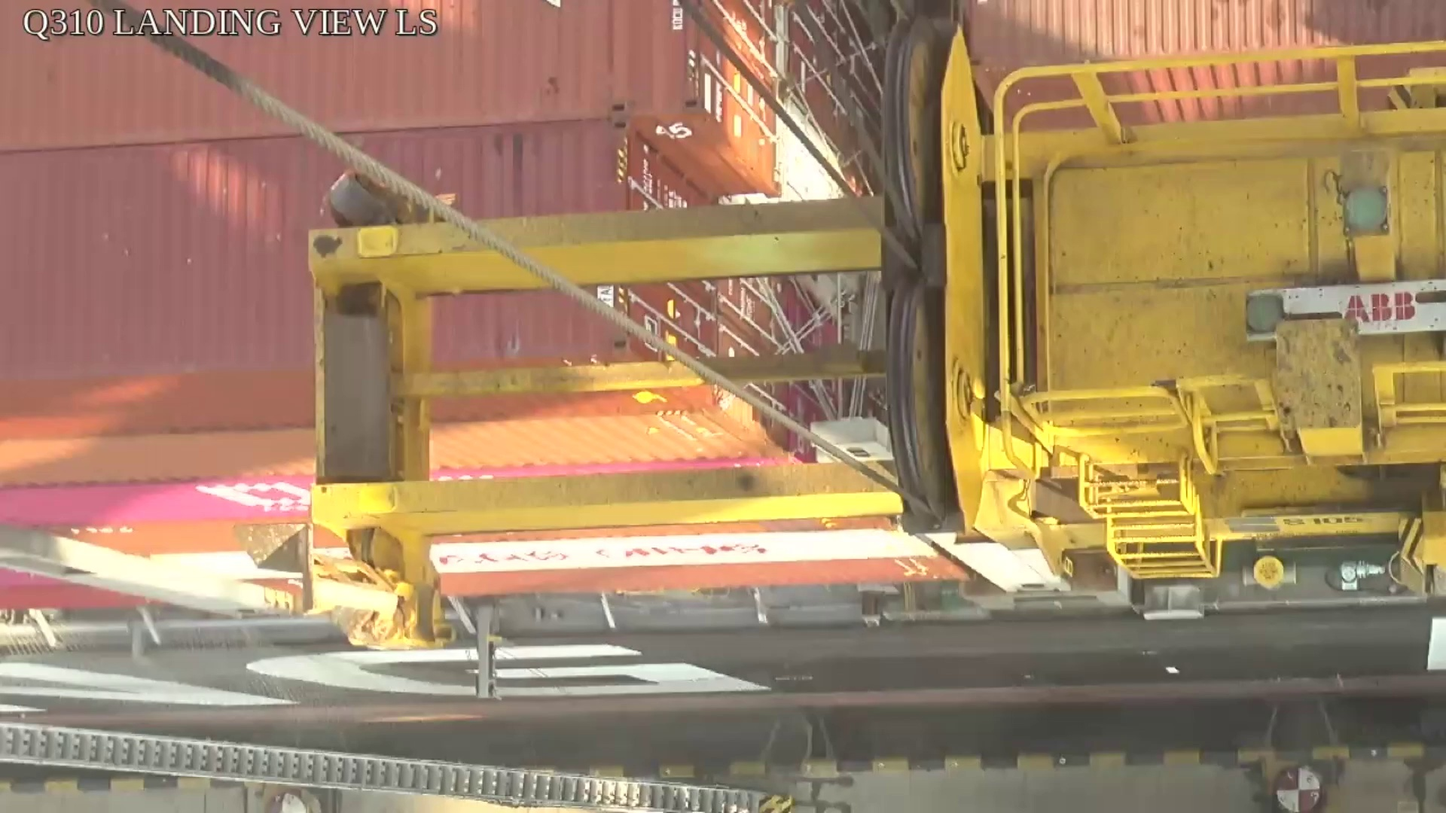aa: (881, 17, 987, 531)
